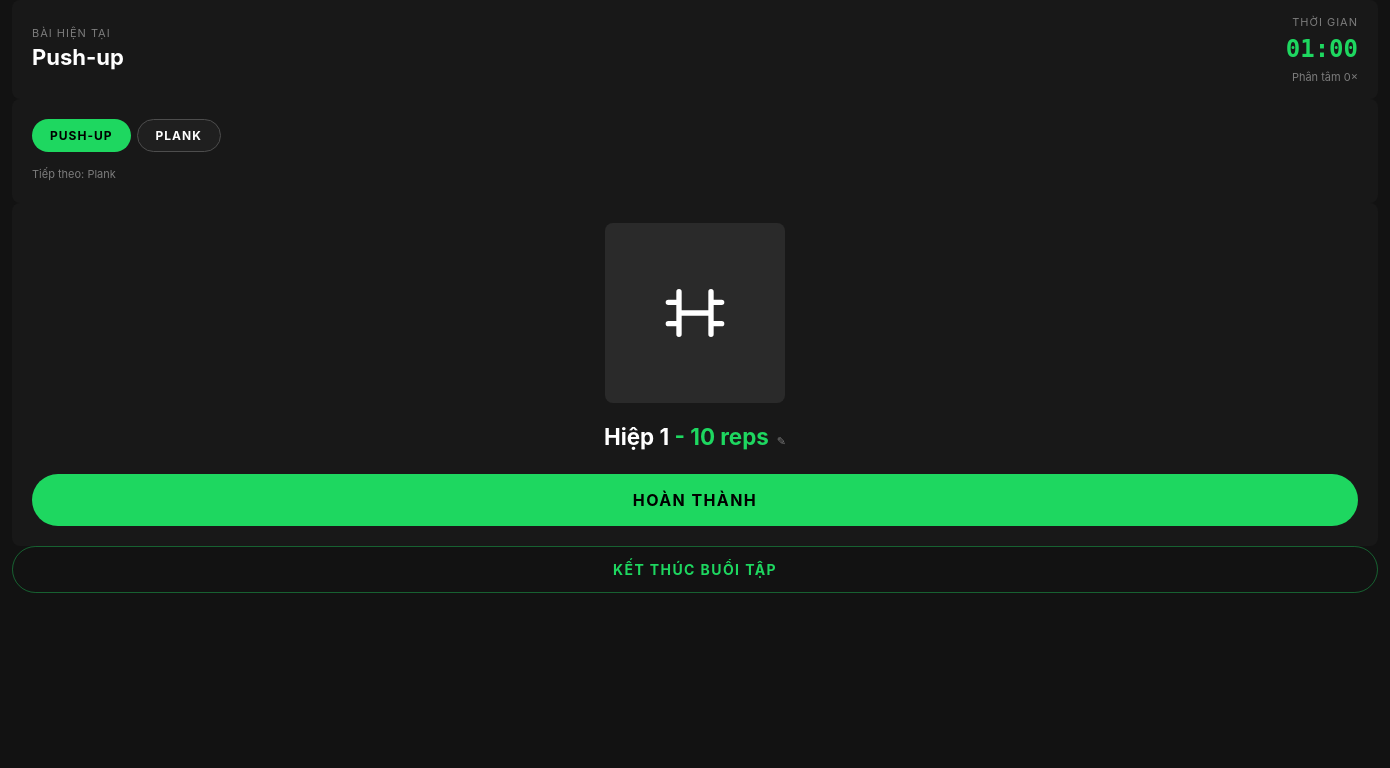
WorkoutSession — màn tập trung tối giản (016) › hoàn tác hiện trong 60 giây và xóa hiệp qua API
The image size is (1390, 768).
Click the button "HOÀN THÀNH" at (695, 500), box [32,474,1358,526]
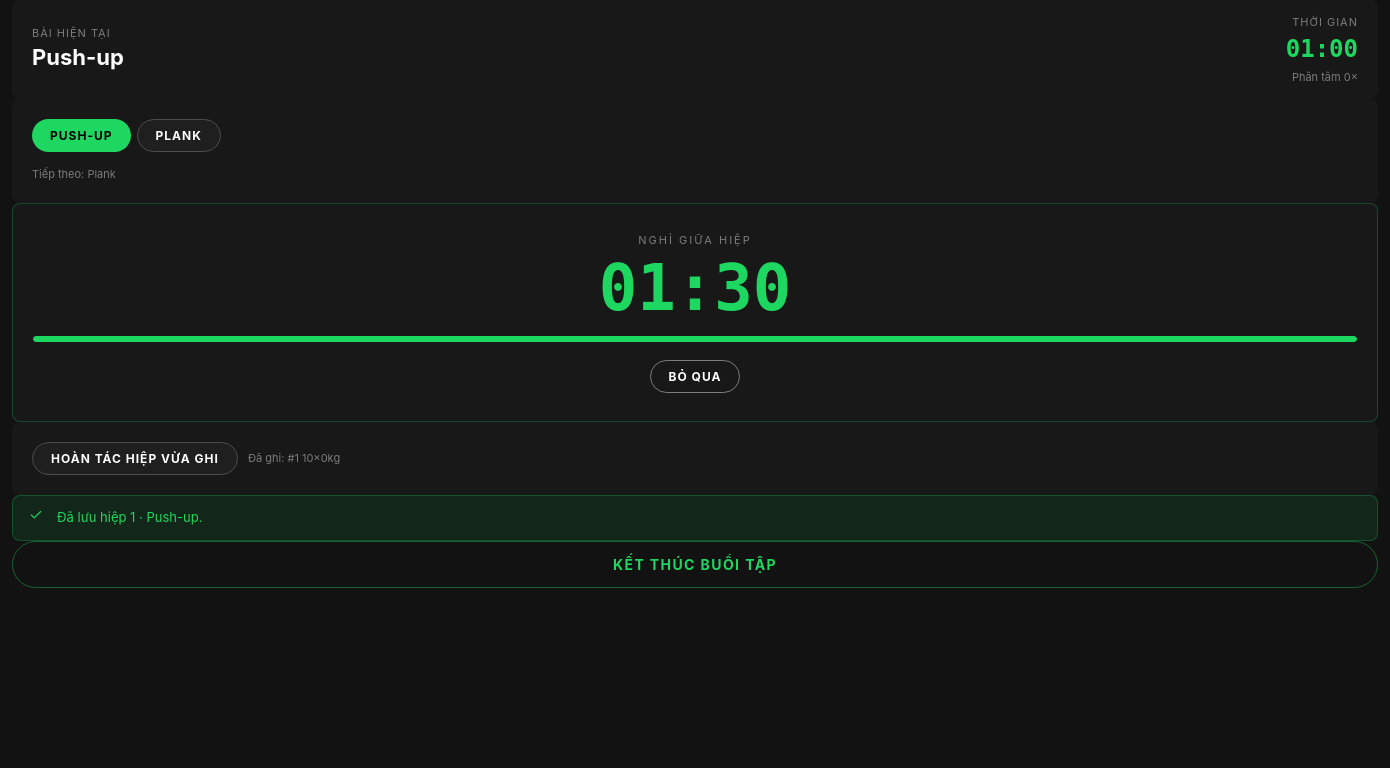
Click the button "Hoàn tác hiệp vừa ghi" at (135, 458), box [32,442,238,475]
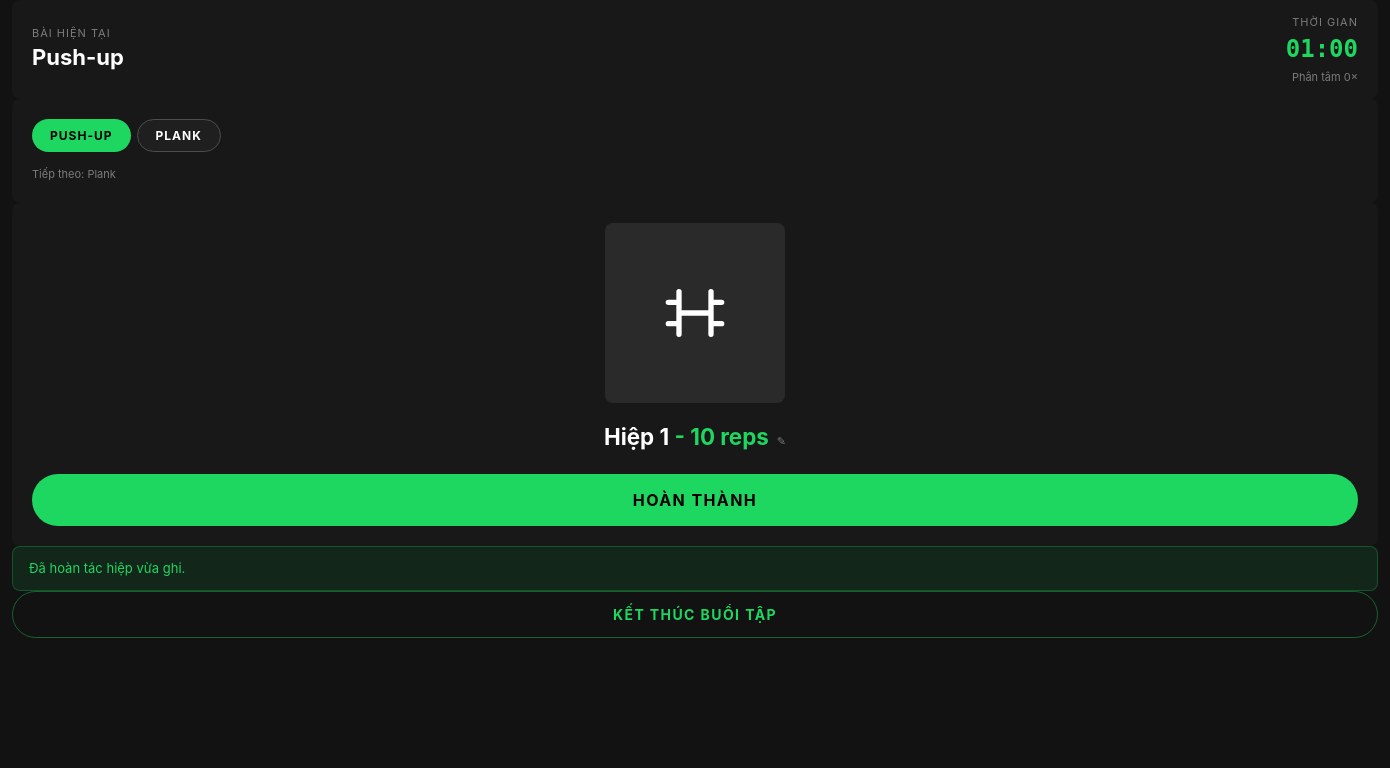
Click the button "HOÀN THÀNH" at (695, 500), box [32,474,1358,526]
Wait 61000 ms
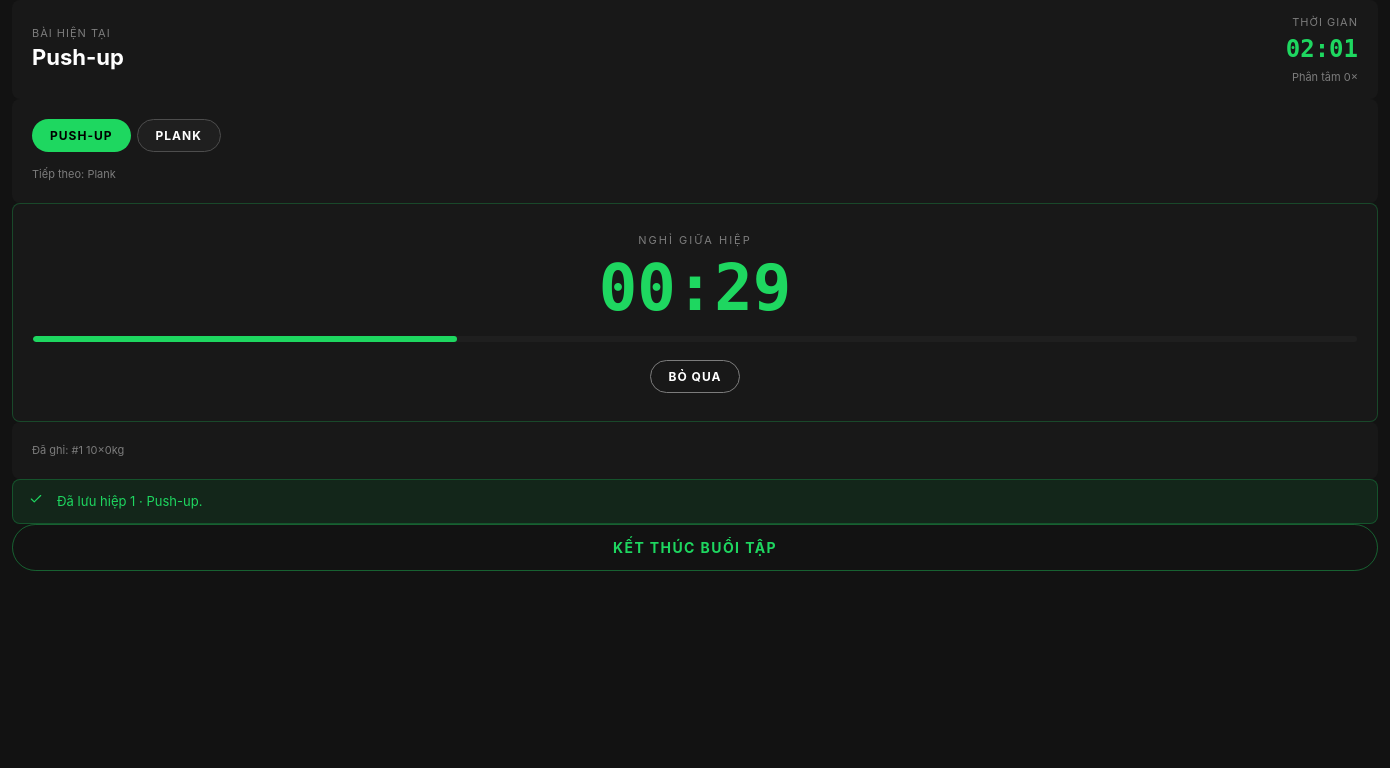
Check: the text "hoàn tác hiệp vừa ghi" is gone
